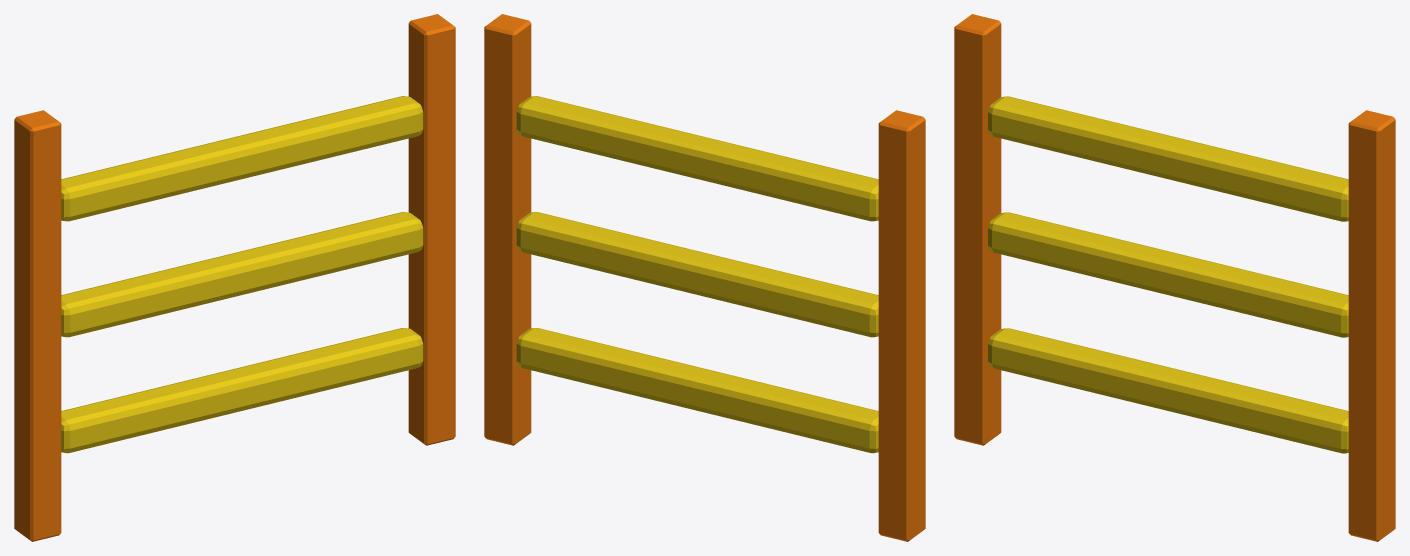
Rendered from fence.fbx.
3 views of the same model, side by side, from view 1: azimuth 30°, elevation 25°; view 2: azimuth 150°, elevation 25°; view 3: azimuth 330°, elevation 25° (orthographic).
Parts seen in each view (by area): view 1: Fence; view 2: Fence; view 3: Fence.
Boxes of the visible parts, <box> form: Fence: <box>14,14,455,541</box>; Fence: <box>484,14,925,541</box>; Fence: <box>954,14,1395,541</box>.
Bounding box in the file's own units: 215 × 200 × 16.
